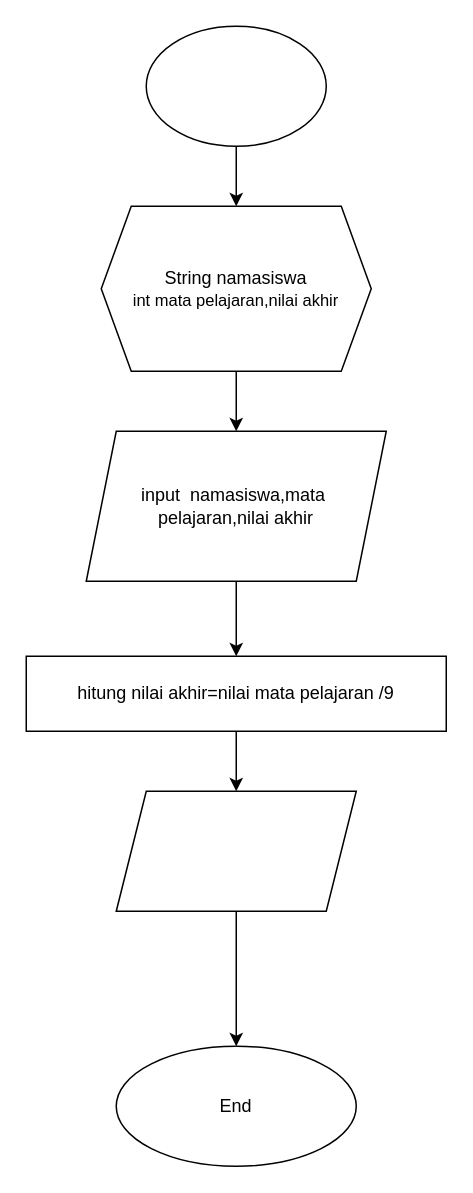
Some shapes in this 473 by 1193 pixel diagram are drawn without their labels. The shapes that lost their labels are listed below. From the top down, each one's box as (x1, y1, x2, y2) in pixels, then its label:
(145, 25, 326, 146): Start
(115, 790, 356, 911): hasil Nilai akhir
